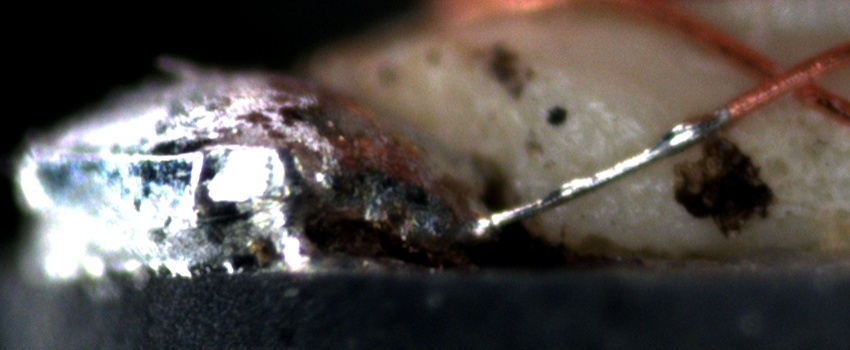CL: (746, 46, 833, 107)
TS: (492, 111, 724, 229)
TTCW: (464, 78, 774, 244)
